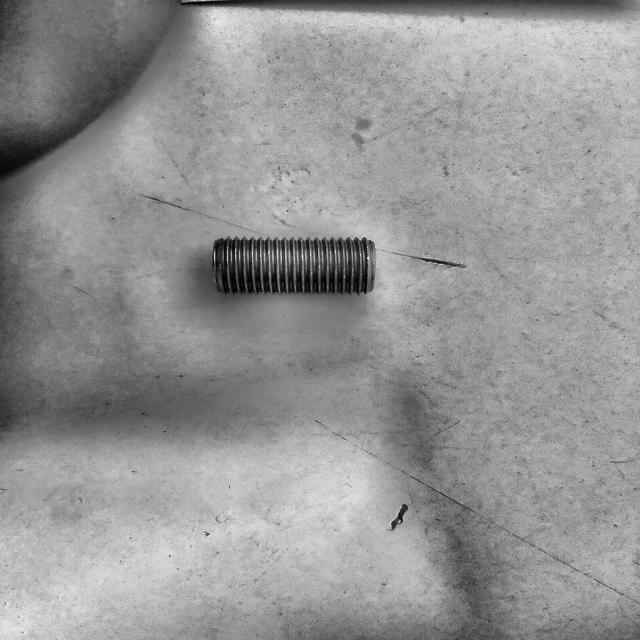Normal: (214, 238, 376, 294)
